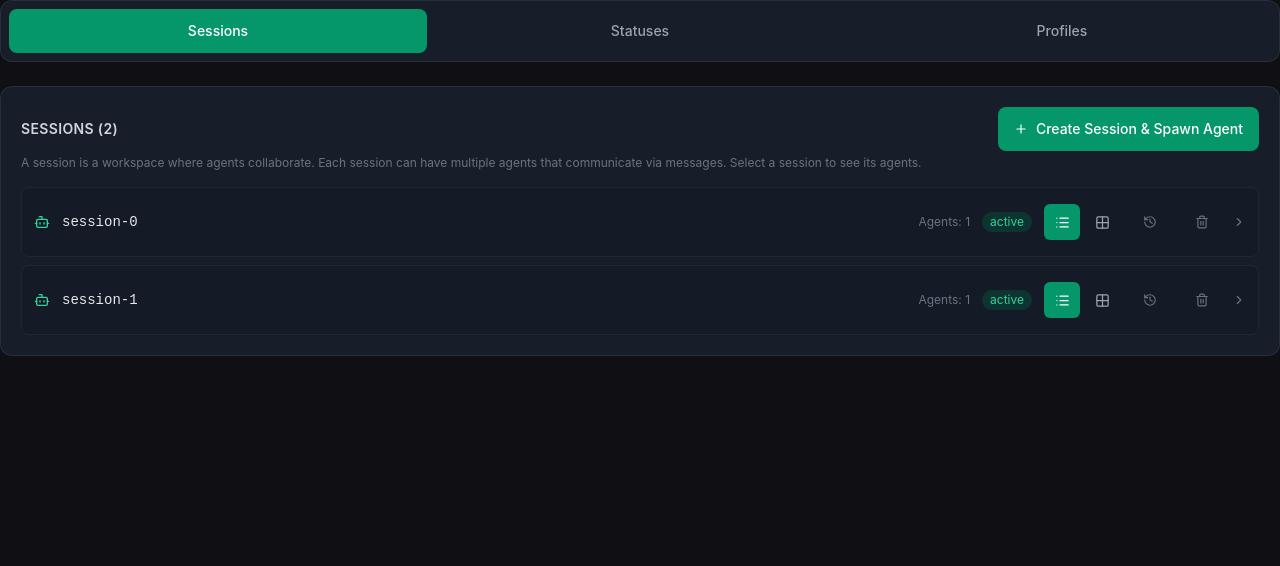
Test: Agents batched read-model stability › ignores a late response from a replaced session and preserves the newer snapshot
Click the button with aria-label "Expand session-0": [100, 222] box [34,212,1032,232]
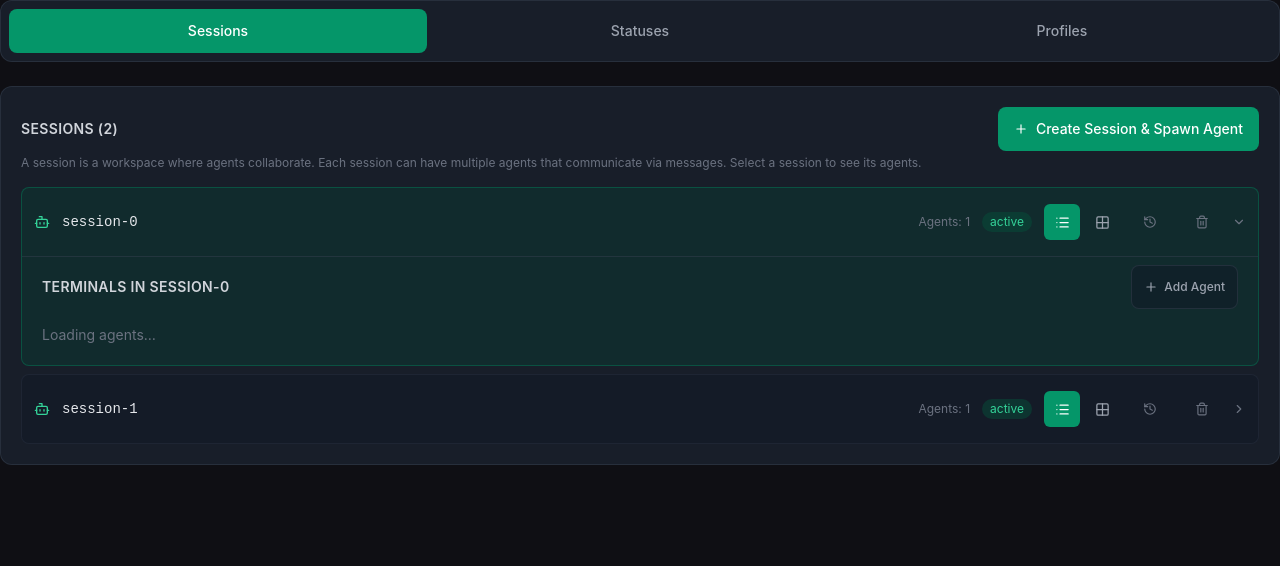
Click the button with aria-label "Expand session-1": [100, 409] box [34,399,1032,419]
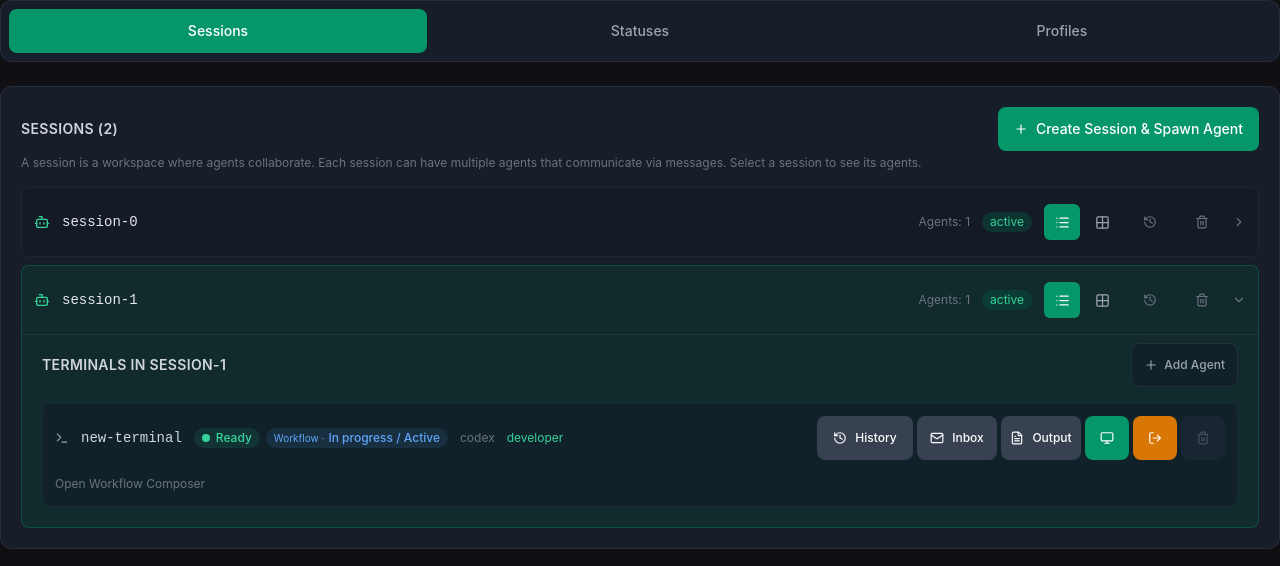
Now the element with test id "agent-detail-card-new-terminal" is shown, box [42,403,1238,507]
